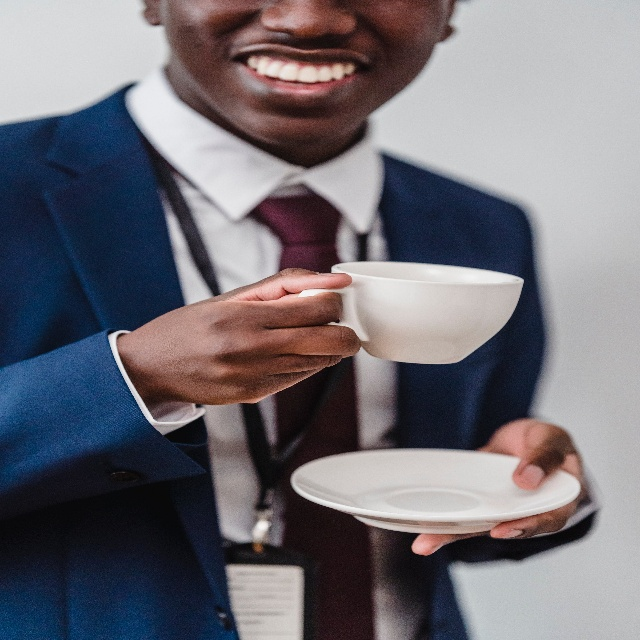Sin_guantes: (148, 267, 362, 407), (411, 417, 585, 557)
